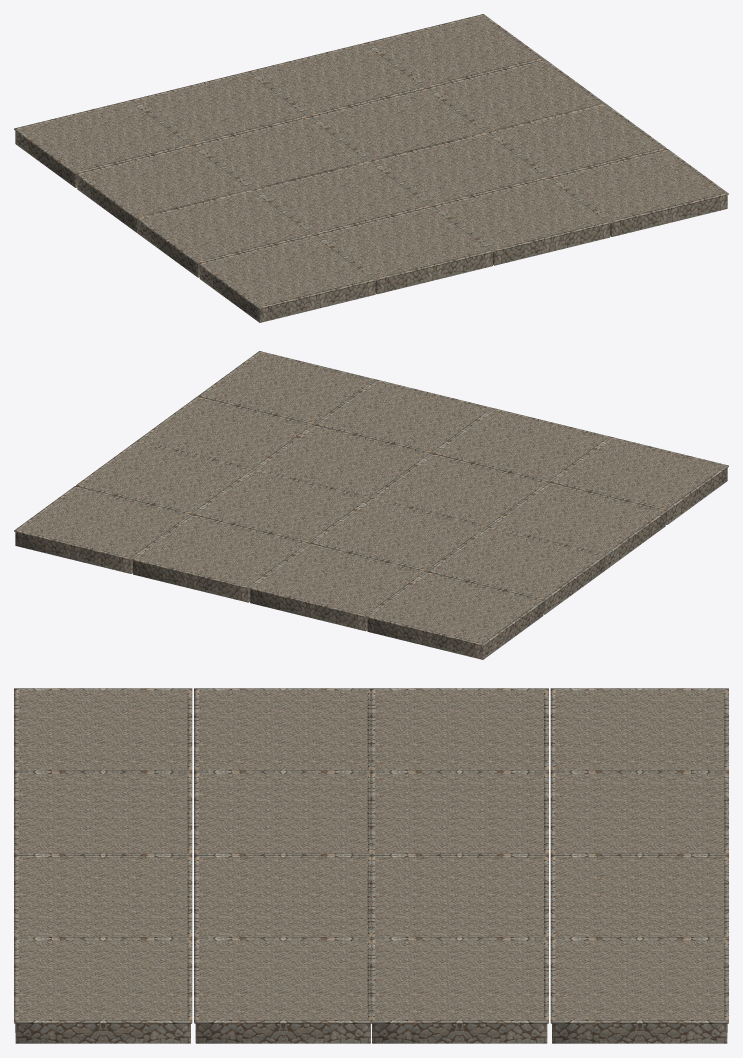
File: Tile23.fbx
3 views of the same model, one above another, from view 1: azimuth 30°, elevation 25°; view 2: azimuth 150°, elevation 25°; view 3: azimuth 270°, elevation 25° (orthographic). The views are drawn at different scales.
Visible parts, largest first — view 1: LV_Bugara_Village_Floor01_SM_JJH.001; view 2: LV_Bugara_Village_Floor01_SM_JJH.001; view 3: LV_Bugara_Village_Floor01_SM_JJH.001.
Boxes of the visible parts, box(x1,y1,x2,y2) form: LV_Bugara_Village_Floor01_SM_JJH.001: box(14, 14, 728, 322); LV_Bugara_Village_Floor01_SM_JJH.001: box(14, 351, 728, 659); LV_Bugara_Village_Floor01_SM_JJH.001: box(14, 688, 728, 1043).
Bounding box in the file's own units: 16.01 × 0.4974 × 14.5.
Materials: 32 (32 with a texture image).
